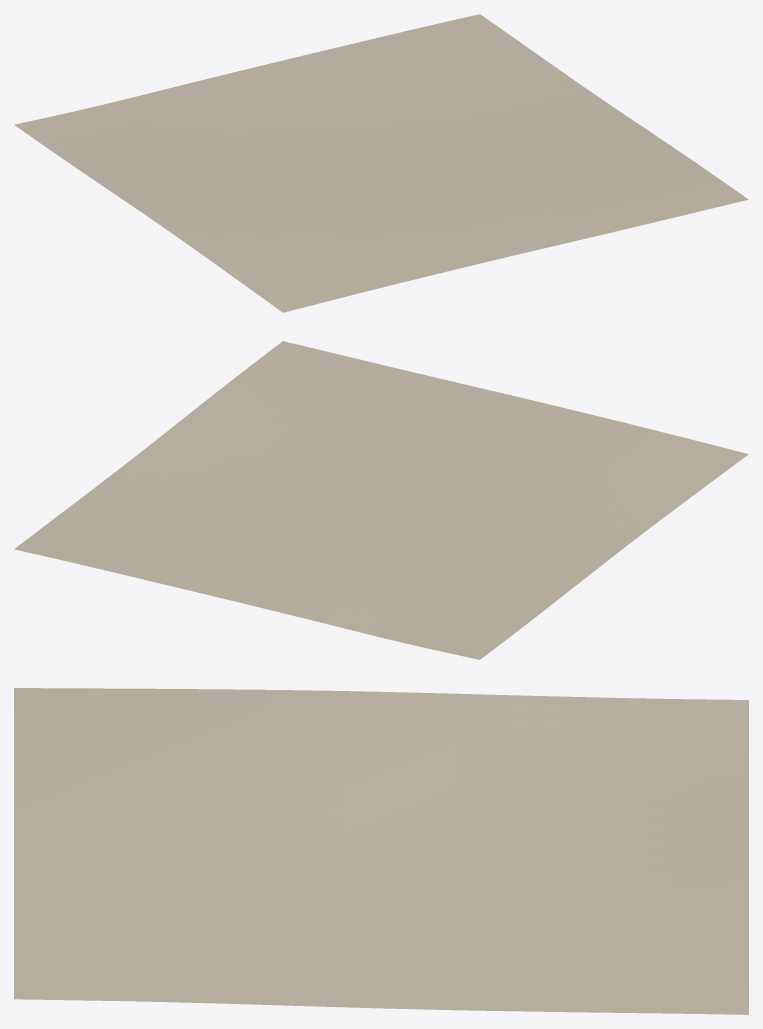
The model's file is bolak_-21_-13.glb.
The picture shows the model from 3 angles, top to bottom: view 1: azimuth 30°, elevation 25°; view 2: azimuth 150°, elevation 25°; view 3: azimuth 270°, elevation 25°; orthographic projection. The views are drawn at different scales.
Parts seen in each view (by area): view 1: Yer_Tuproq-col; view 2: Yer_Tuproq-col; view 3: Yer_Tuproq-col.
Boxes of the visible parts, left/top/right/bottom form: Yer_Tuproq-col: left=14, top=14, right=748, bottom=312; Yer_Tuproq-col: left=14, top=341, right=748, bottom=659; Yer_Tuproq-col: left=14, top=688, right=748, bottom=1014.
Size of the model in its own units: 400 by 10.74 by 400.
